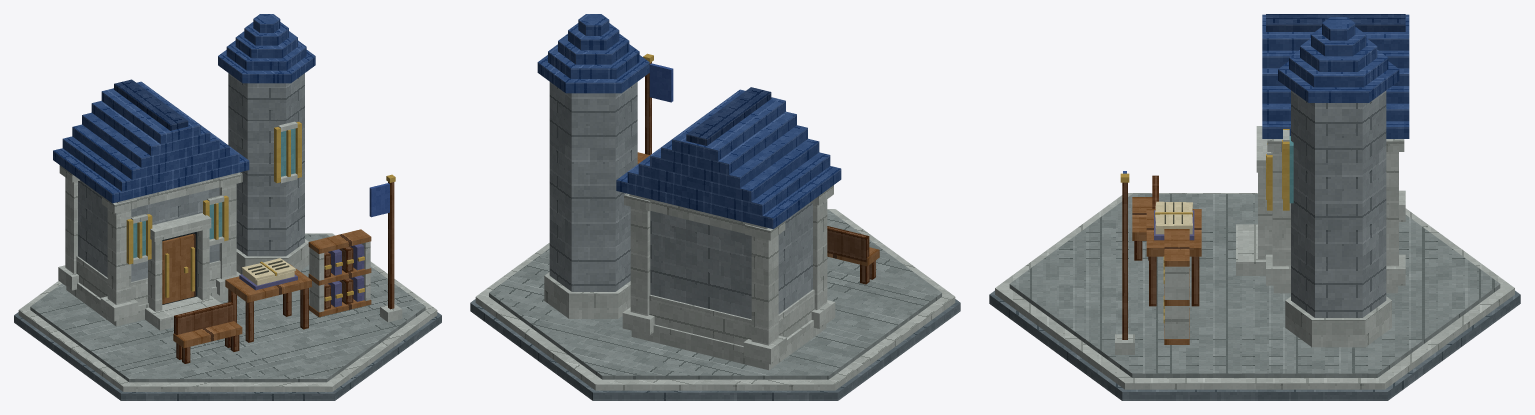
File: university_hex_v1.glb
3 renders of one model, left to right at view 1: azimuth 30°, elevation 25°; view 2: azimuth 150°, elevation 25°; view 3: azimuth 270°, elevation 25°, orthographic. The views are drawn at different scales.
Parts seen in each view (by area): view 1: Human_University_Hex_V1_Foundation, Human_University_Hex_V1_Roofs, Human_University_Hex_V1_Details, Human_University_Hex_V1_Hall, Human_University_Hex_V1_Structure, Human_University_Hex_V1_Courtyard, Human_University_Hex_V1_Faction; view 2: Human_University_Hex_V1_Hall, Human_University_Hex_V1_Foundation, Human_University_Hex_V1_Roofs, Human_University_Hex_V1_Structure, Human_University_Hex_V1_Details, Human_University_Hex_V1_Faction; view 3: Human_University_Hex_V1_Foundation, Human_University_Hex_V1_Hall, Human_University_Hex_V1_Roofs, Human_University_Hex_V1_Details, Human_University_Hex_V1_Structure, Human_University_Hex_V1_Courtyard.
Boxes of the visible parts, x1,y1,x2,y2 form: Human_University_Hex_V1_Foundation: (14,233,441,400); Human_University_Hex_V1_Roofs: (53,14,315,203); Human_University_Hex_V1_Details: (126,121,402,363); Human_University_Hex_V1_Hall: (66,73,309,326); Human_University_Hex_V1_Structure: (58,165,242,321); Human_University_Hex_V1_Courtyard: (145,295,221,330); Human_University_Hex_V1_Faction: (369,183,389,217); Human_University_Hex_V1_Hall: (544,82,826,370); Human_University_Hex_V1_Foundation: (470,209,960,400); Human_University_Hex_V1_Roofs: (537,14,841,228); Human_University_Hex_V1_Structure: (622,185,835,364); Human_University_Hex_V1_Details: (637,53,879,284); Human_University_Hex_V1_Faction: (649,63,673,102); Human_University_Hex_V1_Foundation: (989,193,1520,400); Human_University_Hex_V1_Hall: (1273,90,1397,347); Human_University_Hex_V1_Roofs: (1262,14,1409,138); Human_University_Hex_V1_Details: (1115,129,1293,354); Human_University_Hex_V1_Structure: (1256,126,1405,285); Human_University_Hex_V1_Courtyard: (1236,224,1265,275).
Bounding box in the file's own units: 1.59 × 1.24 × 1.84.
Materials: 1 (1 with a texture image).
